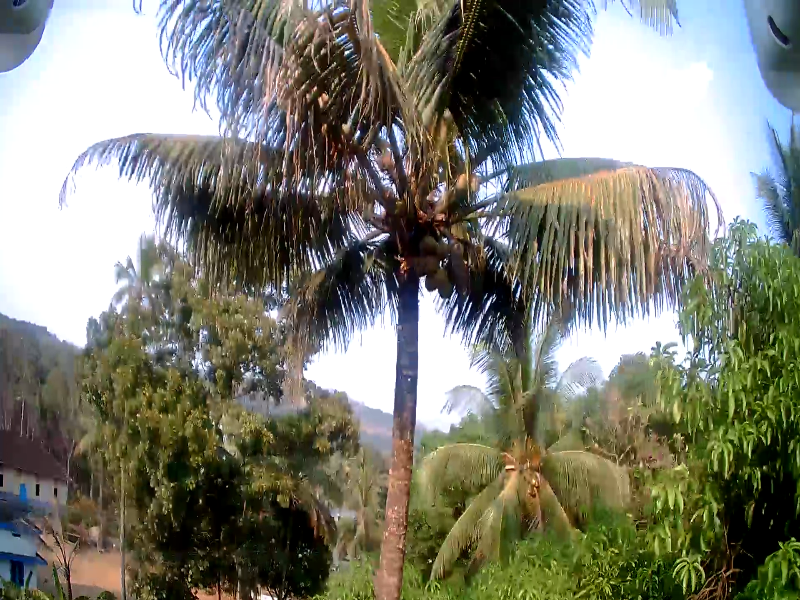coconut: (439, 277, 460, 299), (468, 173, 483, 200), (455, 173, 468, 200), (421, 233, 437, 253), (426, 269, 441, 290), (450, 241, 461, 256)
